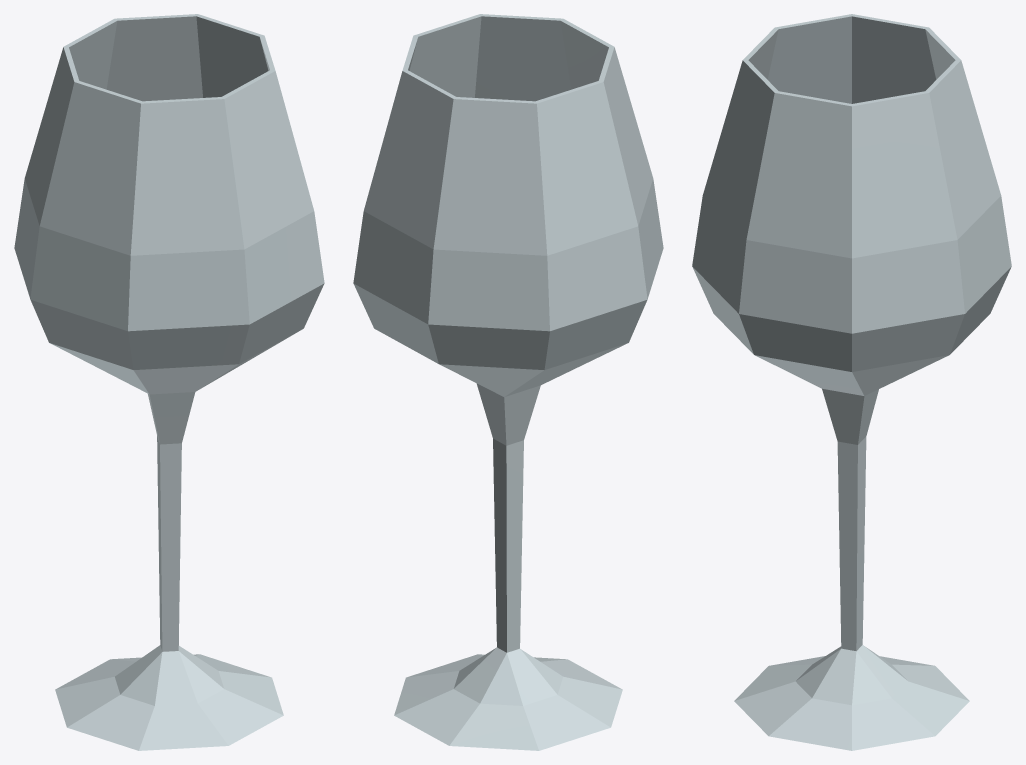
File: wineglass_001.glb
3 views of the same model, side by side, from view 1: azimuth 30°, elevation 25°; view 2: azimuth 150°, elevation 25°; view 3: azimuth 270°, elevation 25° (orthographic).
Visible parts, largest first — view 1: wineglass_001; view 2: wineglass_001; view 3: wineglass_001.
Part boxes in pixels (left/top/right/bottom): wineglass_001: left=14, top=14, right=324, bottom=750; wineglass_001: left=353, top=14, right=663, bottom=750; wineglass_001: left=692, top=14, right=1011, bottom=750.
Size of the model in its own units: 0.0958 by 0.2119 by 0.0958.
1 material, 1 textured.
